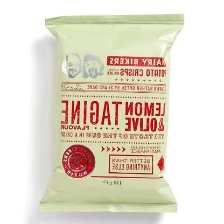snack: (32, 6, 190, 219)
